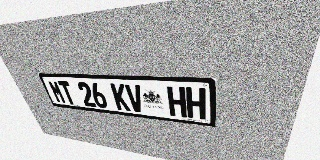2: (76, 82, 96, 107)
6: (88, 82, 109, 109)
H: (186, 87, 206, 120), (167, 86, 187, 118)
K: (110, 83, 131, 111)
M: (47, 80, 67, 104)
T: (57, 81, 77, 105)
V: (124, 84, 145, 113)
